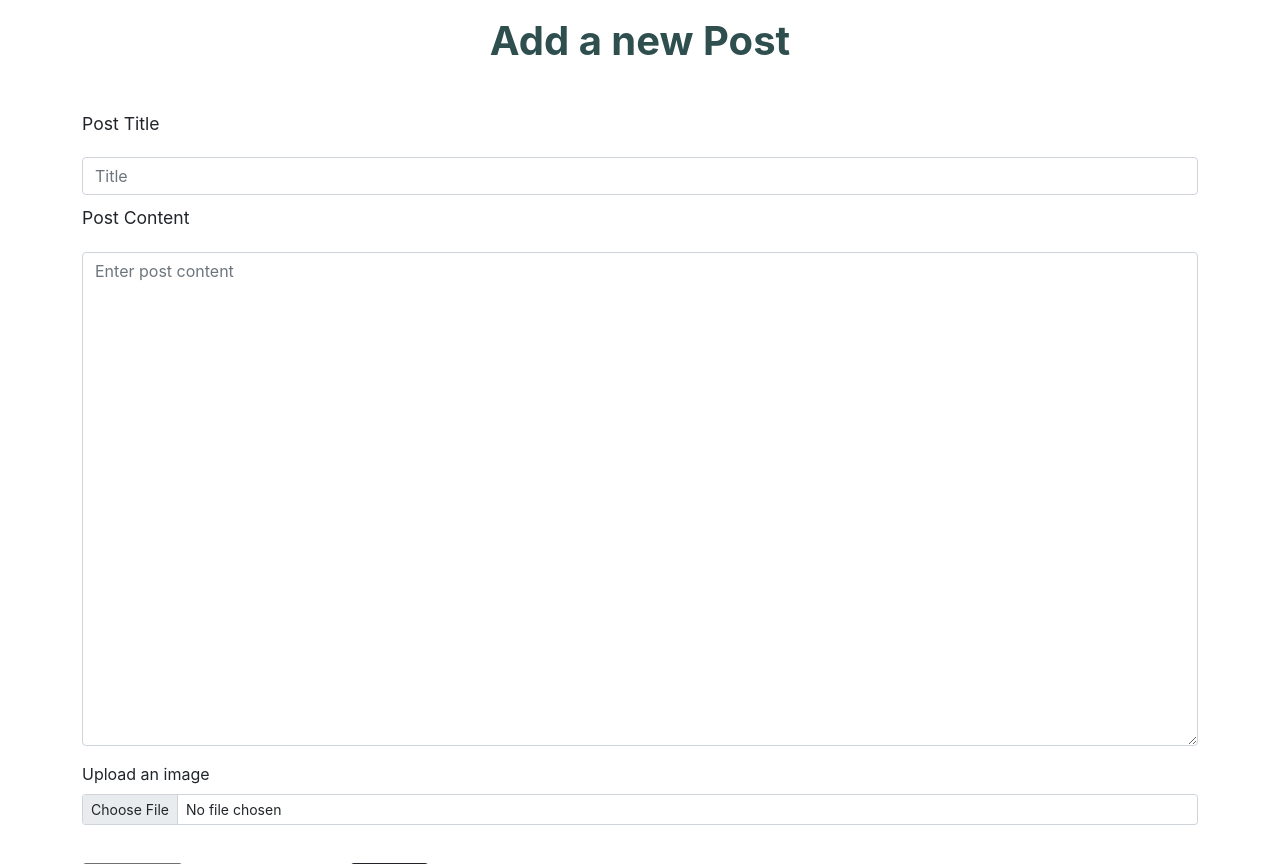
Scenario: submit button is enabled when there is title and content
The width and height of the screenshot is (1280, 864).
Type "Random Post" into the field with test id "title-input".
click(640, 176); type("Random Post")  # box [82,157,1198,195]
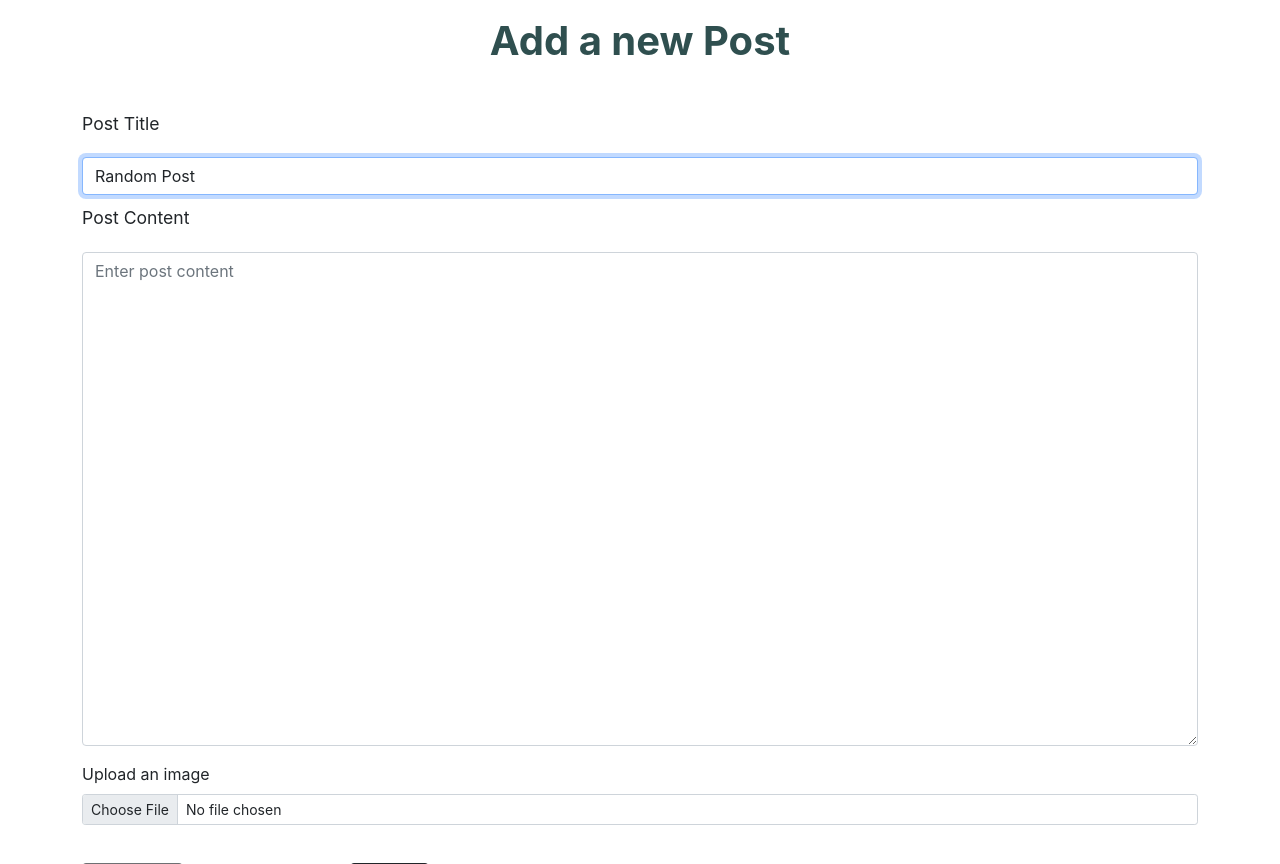
Type "Random Post Content -------" into the text box with test id "content-input".
click(640, 499); type("Random Post Content -------")  # box [82,252,1198,746]
(page scrolled)
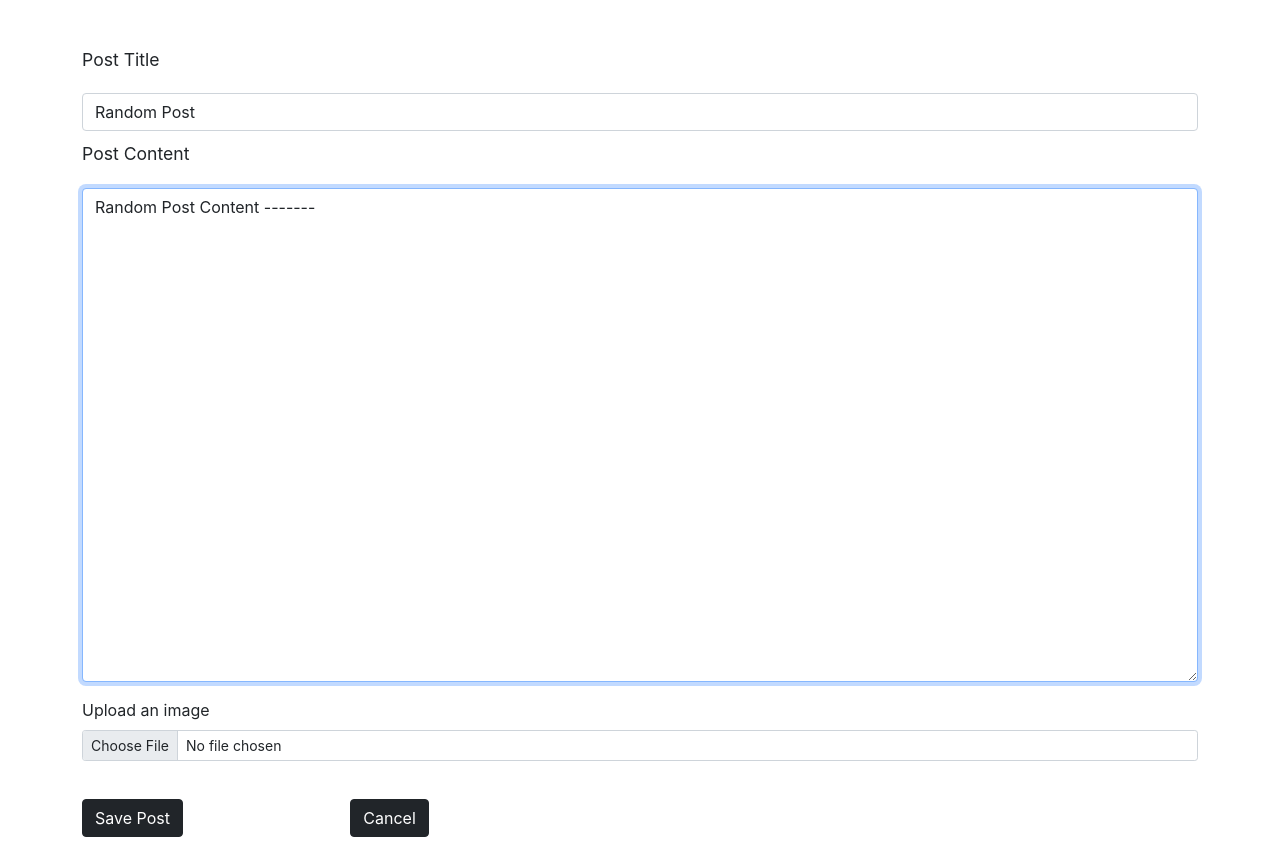
Result: the button with test id "save" is enabled at [82,799,183,837]
